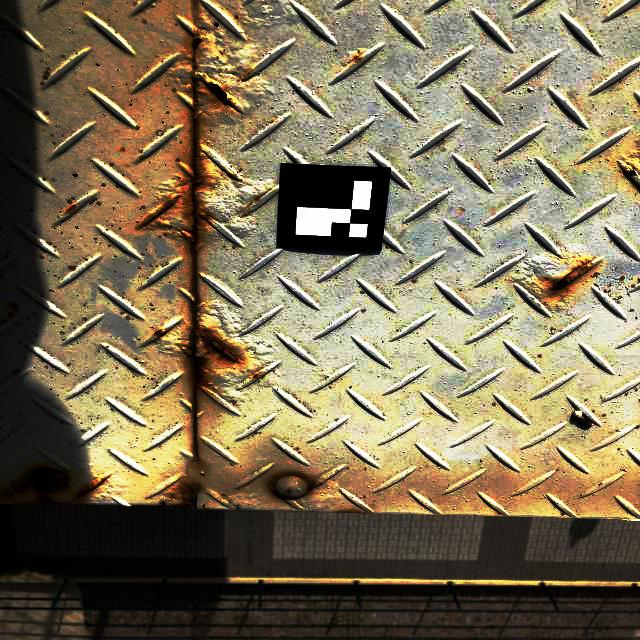Corrosion: (147, 82, 212, 254), (192, 328, 244, 385), (14, 467, 69, 506), (544, 265, 591, 300), (72, 478, 106, 498), (206, 81, 232, 104), (180, 487, 198, 506), (190, 37, 204, 50), (306, 481, 317, 494), (626, 168, 640, 176), (65, 204, 77, 213), (155, 328, 166, 337), (355, 56, 360, 63)
